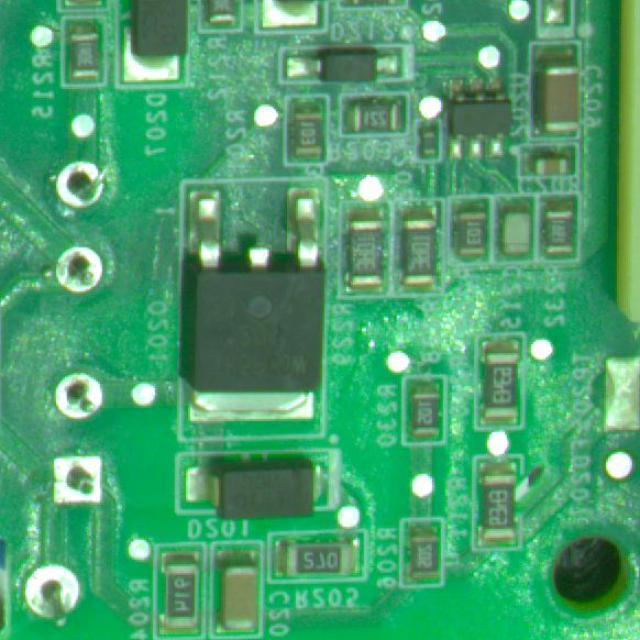Insufficient solder: (49, 229, 118, 308), (47, 436, 116, 514), (23, 551, 87, 629), (49, 150, 118, 216), (50, 360, 114, 424)
